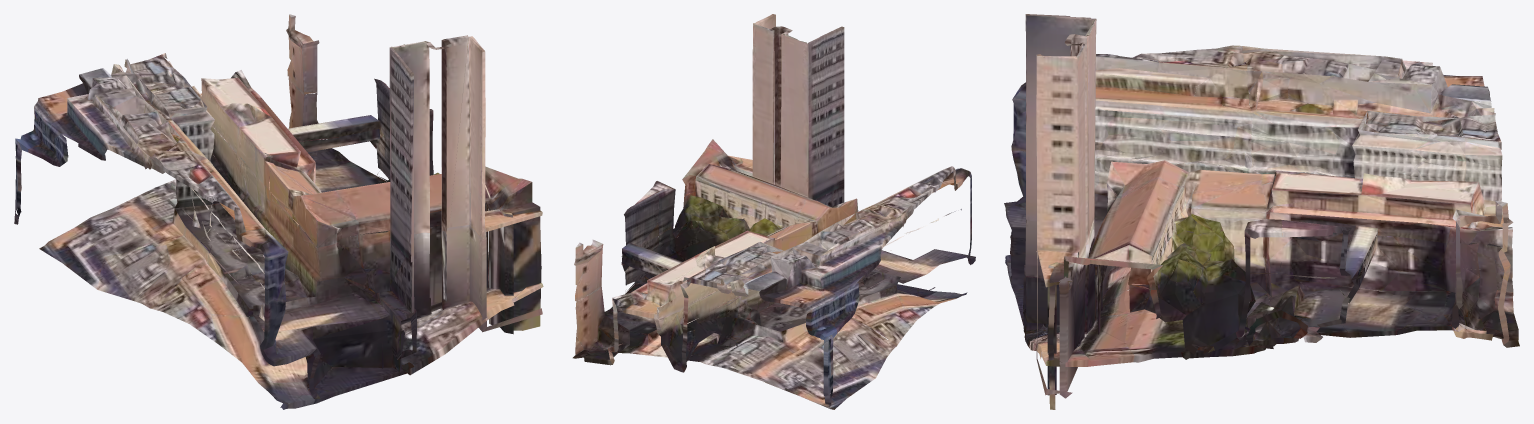
3 views of the same model, side by side, from view 1: azimuth 30°, elevation 25°; view 2: azimuth 150°, elevation 25°; view 3: azimuth 270°, elevation 25° (orthographic). The views are drawn at different scales.
Visible parts, largest first — view 1: Mesh_0; view 2: Mesh_0; view 3: Mesh_0.
Boxes of the visible parts, x1,y1,x2,y2 form: Mesh_0: [14, 14, 543, 409]; Mesh_0: [573, 14, 975, 409]; Mesh_0: [1004, 14, 1519, 409].
Bounding box in the file's own units: 66.85 × 58.24 × 82.58.
2 materials, 2 textured.
